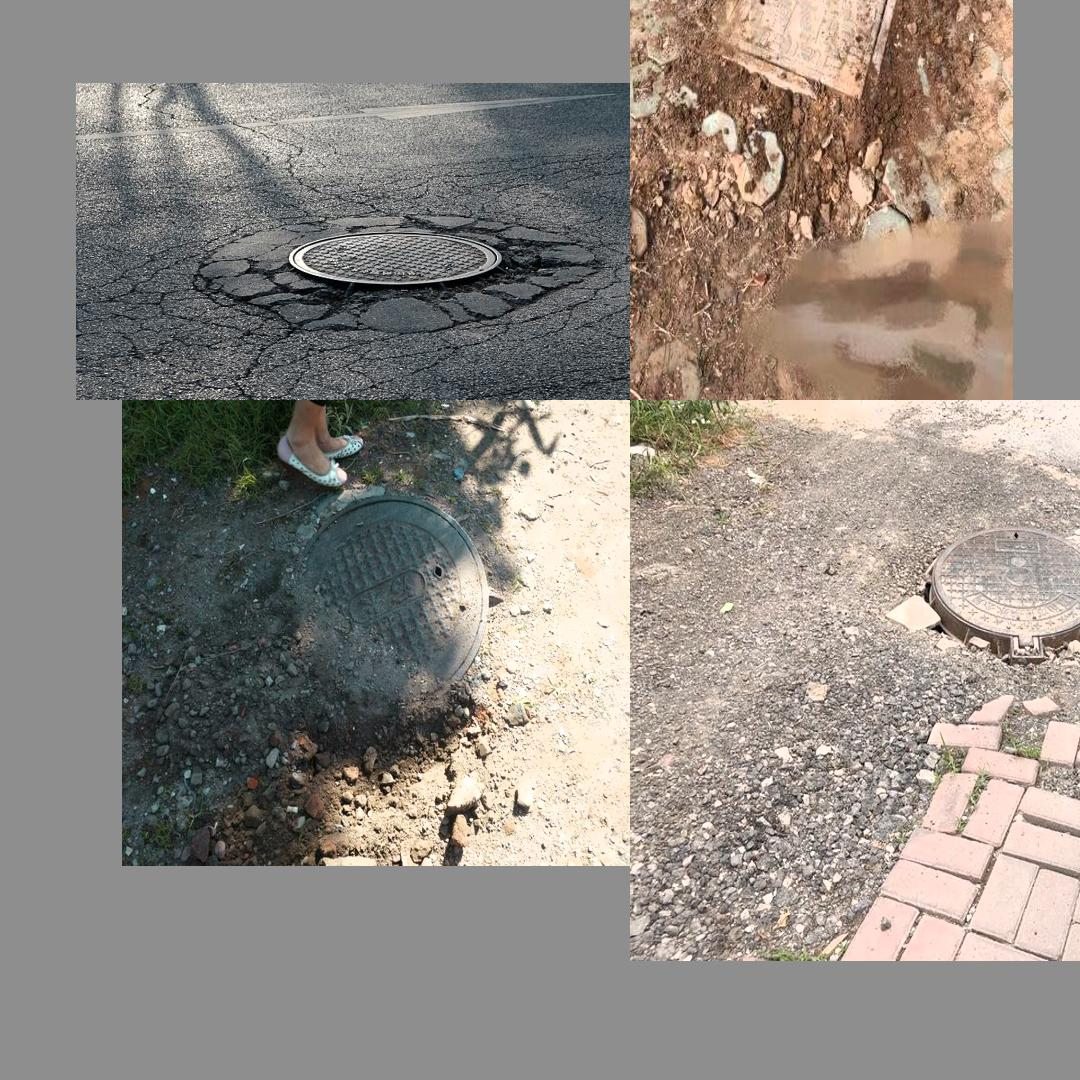circle: (246, 488, 538, 743), (181, 210, 560, 348), (870, 487, 1080, 710), (700, 0, 934, 140)
